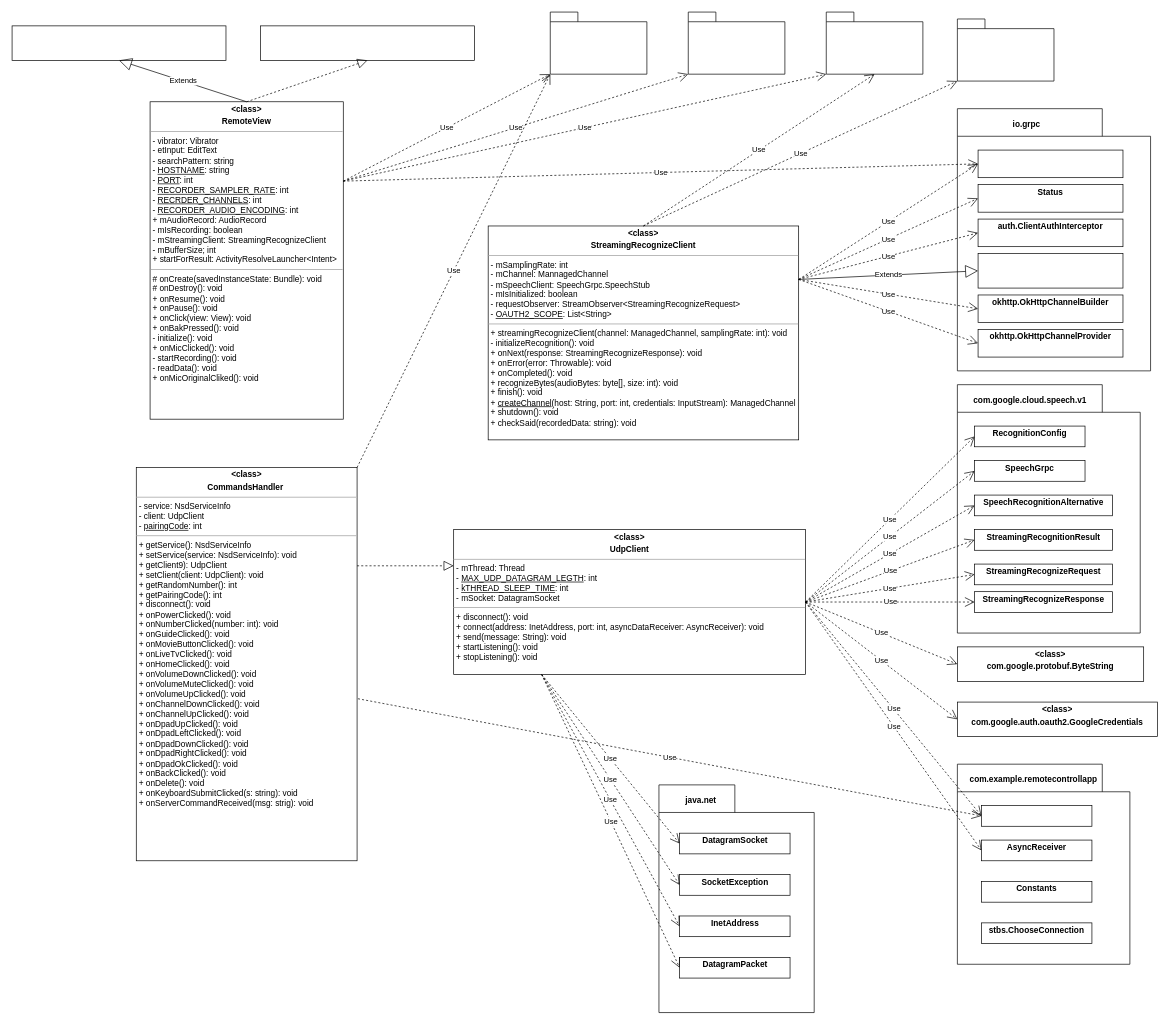
The diagram is 1170 pixels wide and 1025 high, and some of its shapes have lost their labels. Each missing label, with the centre of its shape:
"<class> androidx.appcompat.app.AppCompatActivity" belongs at point 118,42.
"<class> stub.StreamObserver" belongs at point 1050,270.
"<interface> android.view.View.OnClickListener" belongs at point 367,42.
"android" belongs at point 598,42.
"androidx" belongs at point 736,42.
"java.io" belongs at point 874,42.
"java.util" belongs at point 1005,49.
"ManagedChannel" belongs at point 1050,163.
"Singleton" belongs at point 1036,815.
